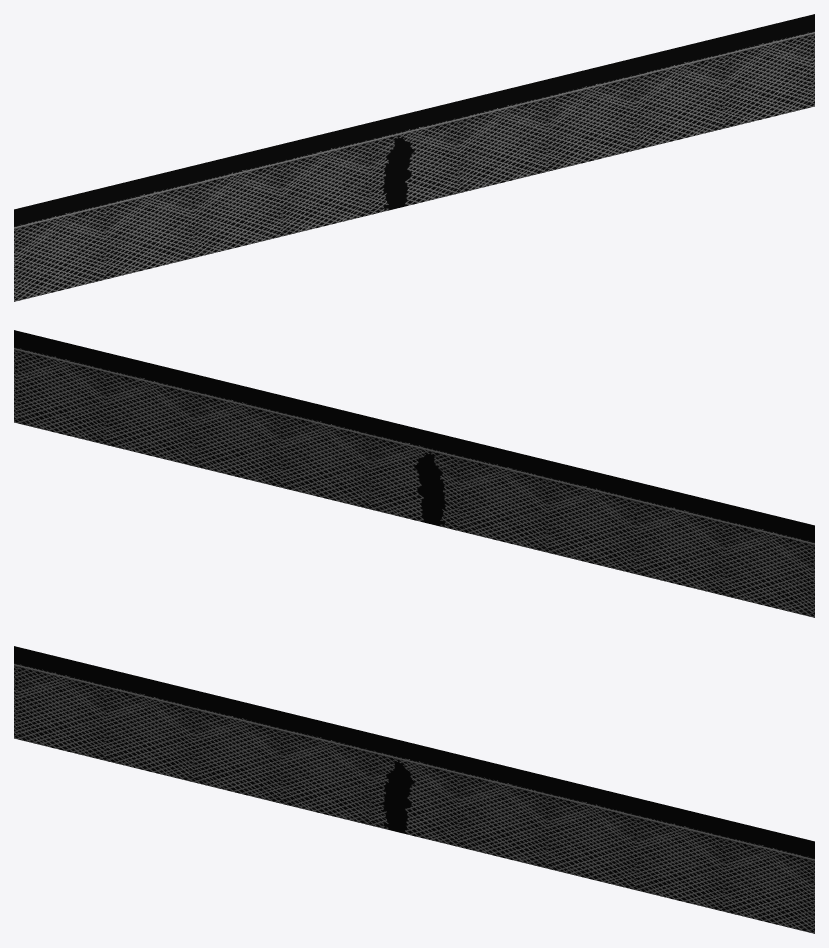
The model's file is fence.glb.
The picture shows the model from 3 angles, top to bottom: view 1: azimuth 30°, elevation 25°; view 2: azimuth 150°, elevation 25°; view 3: azimuth 330°, elevation 25°; orthographic projection.
Visible parts, largest first — view 1: Fence; view 2: Fence; view 3: Fence.
Part boxes in pixels (x1,y1,x2,y2): Fence: (14, 14, 814, 301); Fence: (14, 330, 814, 617); Fence: (14, 646, 814, 933).
Size of what is drawn, in the model's own units: 59.8 by 6.6 by 0.
2 materials, 2 textured.
